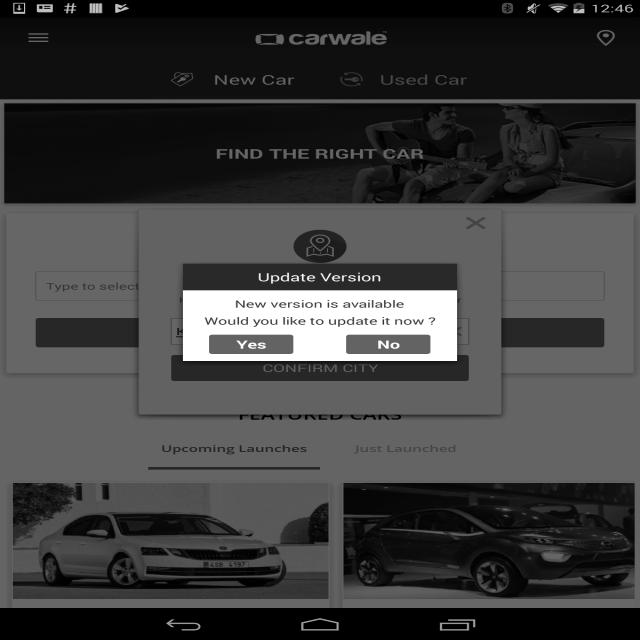Button: (197, 329, 300, 356), (335, 331, 439, 355)
ImageButton: (14, 27, 68, 48), (590, 24, 625, 45), (457, 214, 492, 233)
ImageView: (6, 105, 632, 201), (15, 483, 327, 599), (343, 484, 635, 599), (293, 229, 349, 265), (332, 68, 372, 92), (160, 66, 195, 86), (244, 32, 285, 46)
TextView: (254, 270, 385, 286), (225, 299, 413, 310), (159, 441, 308, 454), (292, 30, 397, 47), (213, 71, 298, 88), (347, 443, 464, 455), (376, 74, 474, 86)
